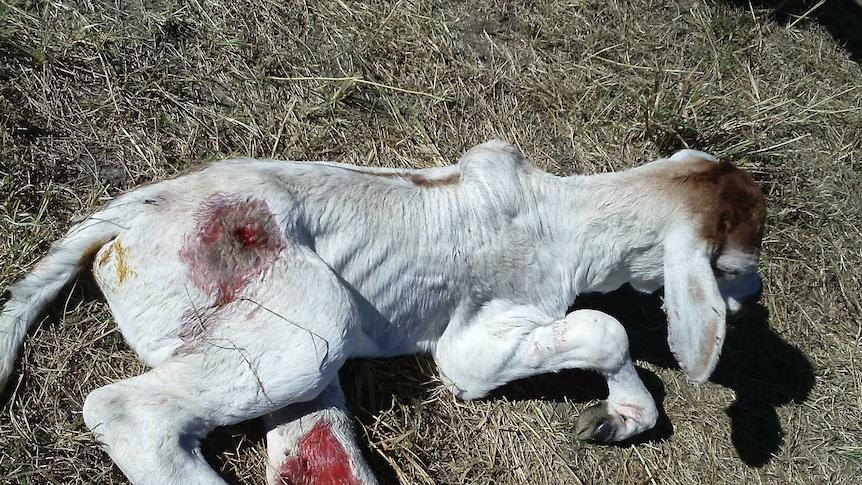cut: (160, 175, 333, 362)
